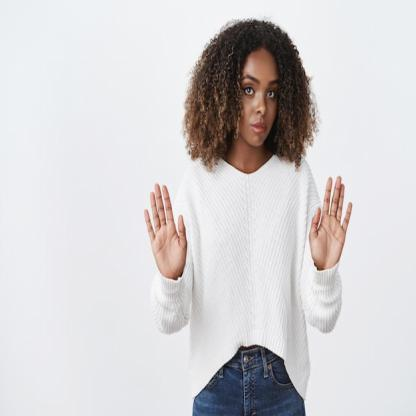stop: (141, 178, 191, 286), (310, 172, 354, 272)
